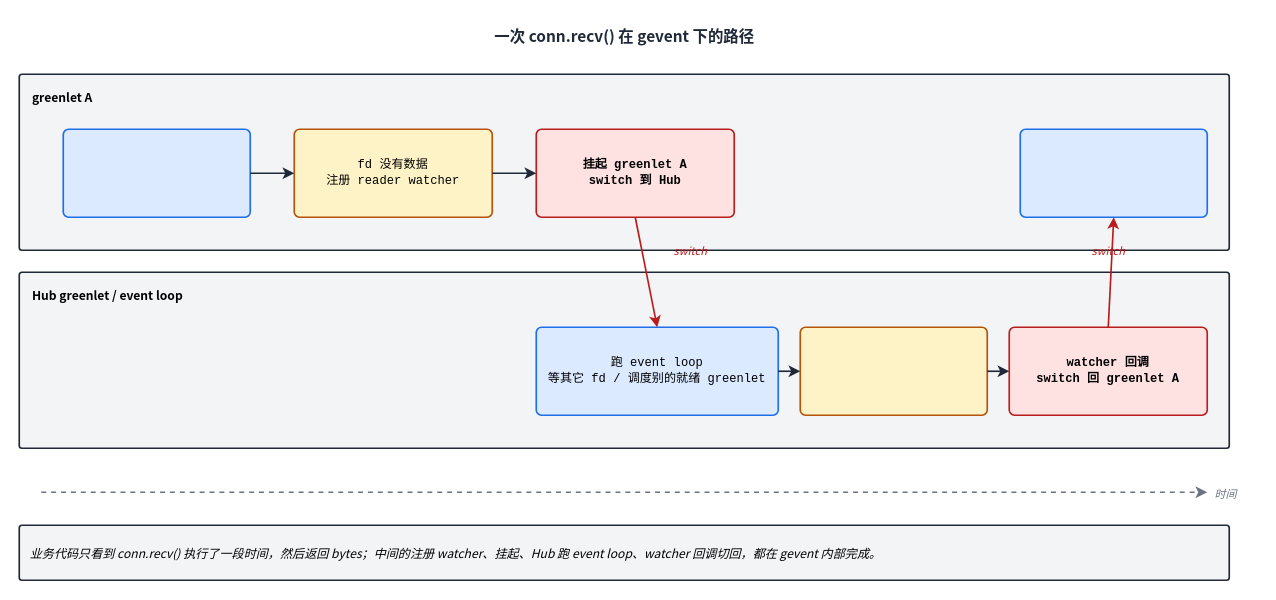
Image size: 1276x600. Some labels were removed from this diagram. Each missing label, with the centre of its shape:
"conn.recv() 返回 data: bytes" goes at (x=1113, y=173).
"conn.recv(4096) 调用" goes at (x=156, y=173).
"epoll 通知 fd 可读" goes at (x=893, y=371).
